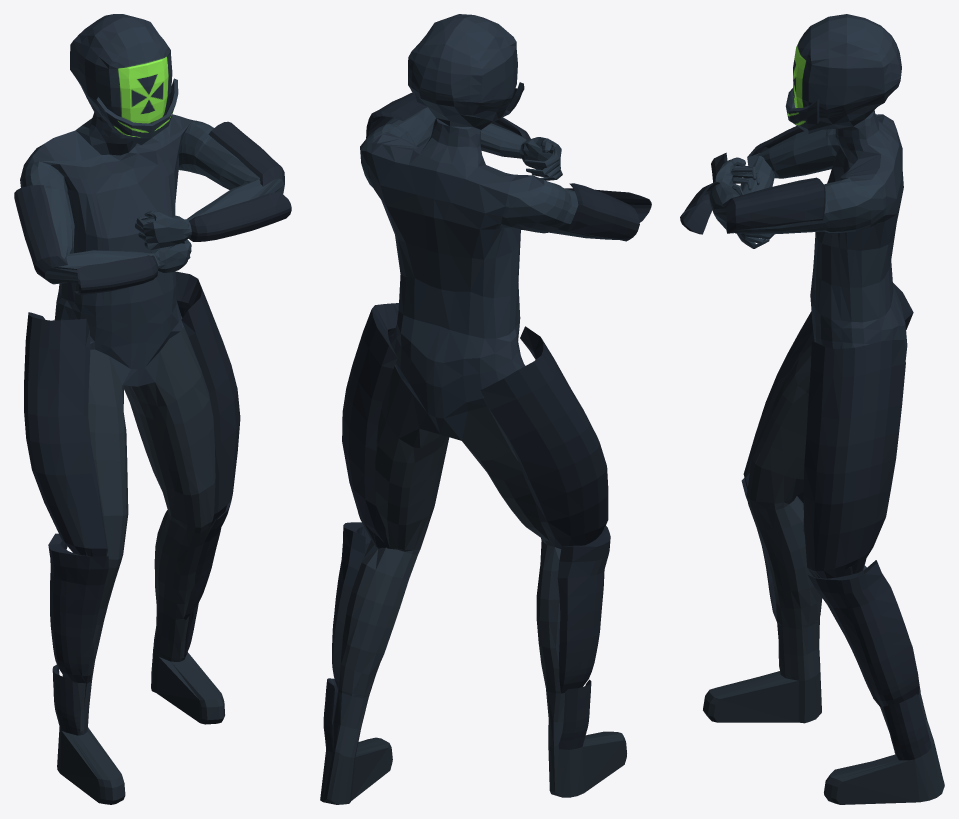
The model's file is Bastion_WB_000014.obj.
3 views of the same model, side by side, from view 1: azimuth 30°, elevation 25°; view 2: azimuth 150°, elevation 25°; view 3: azimuth 270°, elevation 25° (orthographic). The views are drawn at different scales.
Visible parts, largest first — view 1: Cube.002; view 2: Cube.002; view 3: Cube.002.
Boxes of the visible parts, x1,y1,x2,y2 form: Cube.002: (14,14,291,804); Cube.002: (320,14,651,804); Cube.002: (680,14,944,804).
Size of the model in its own units: 1.31 by 3.8 by 1.23.
